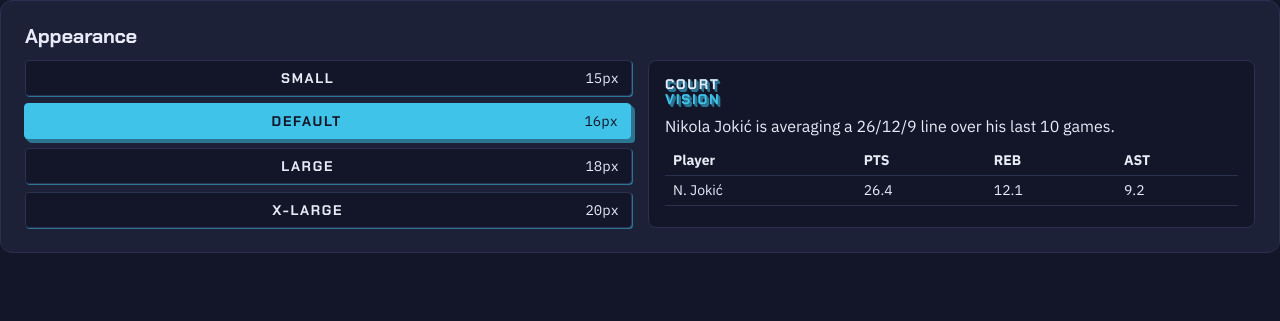
SettingsAppearance › reverts the attribute and check when the save fails
Click the button "X-Large 20px": click(328, 210) [25, 192, 632, 228]
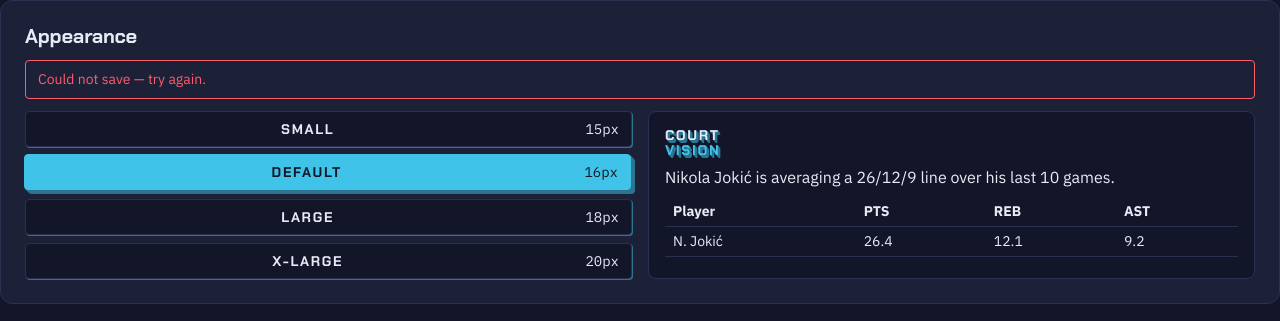
Expected: the message reads "Could not save — try again.", [38, 70, 206, 88]
